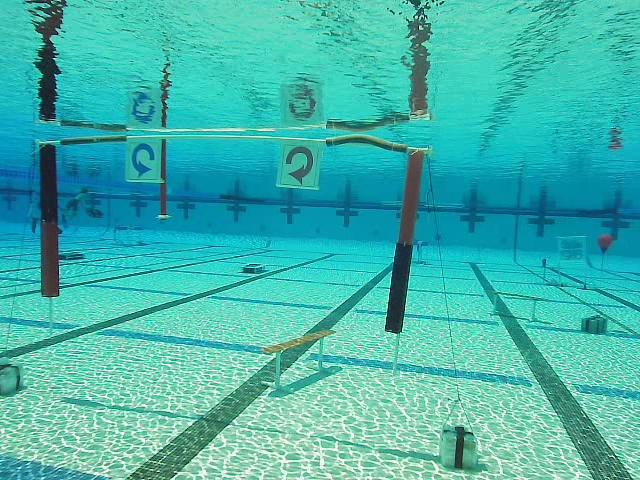buoy: (597, 234, 613, 254)
dropper: (58, 249, 87, 266), (240, 259, 266, 277)
gate: (35, 133, 430, 335)
gate_blue: (126, 138, 163, 182)
gate_leg_l: (37, 140, 63, 299)
gate_leg_r: (384, 145, 428, 334)
gate_red: (278, 142, 321, 188)
torpedo: (558, 236, 585, 263)
